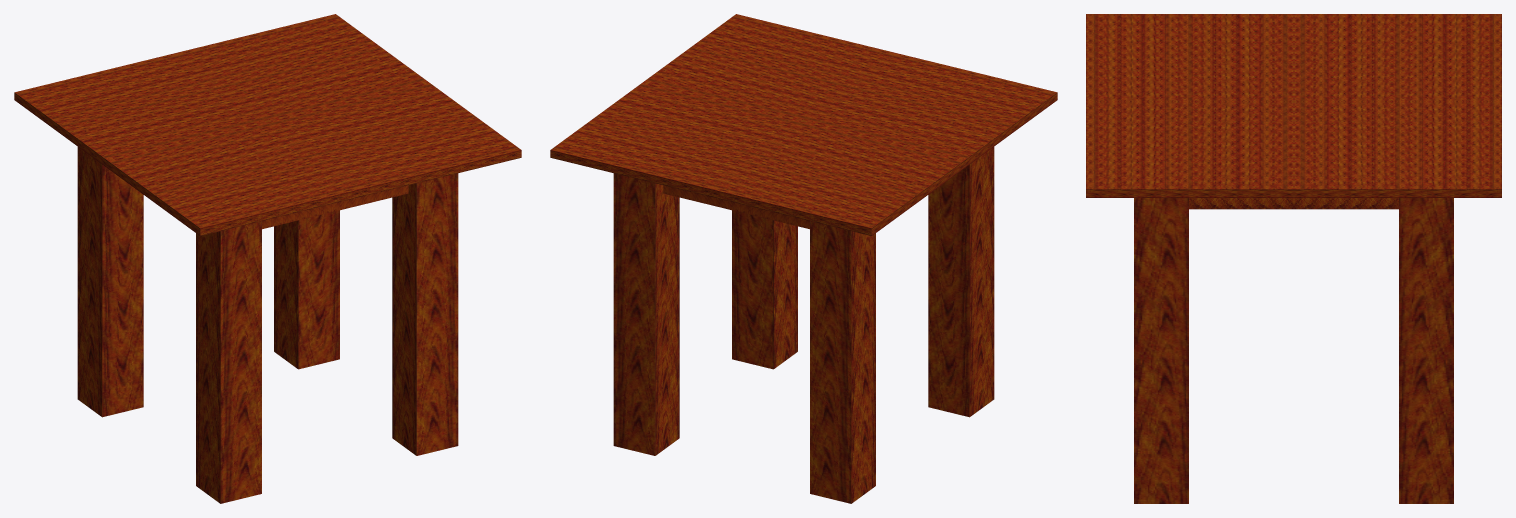
Rendered from mesa01.obj.
3 views of the same model, side by side, from view 1: azimuth 30°, elevation 25°; view 2: azimuth 150°, elevation 25°; view 3: azimuth 270°, elevation 25° (orthographic). The views are drawn at different scales.
Parts seen in each view (by area): view 1: polySurface2; view 2: polySurface2; view 3: polySurface2.
Part boxes in pixels (x1,y1,x2,y2): polySurface2: (14, 14, 521, 503); polySurface2: (550, 14, 1057, 503); polySurface2: (1086, 14, 1501, 503).
Bounding box in the file's own units: 10.08 × 9.04 × 10.1.
